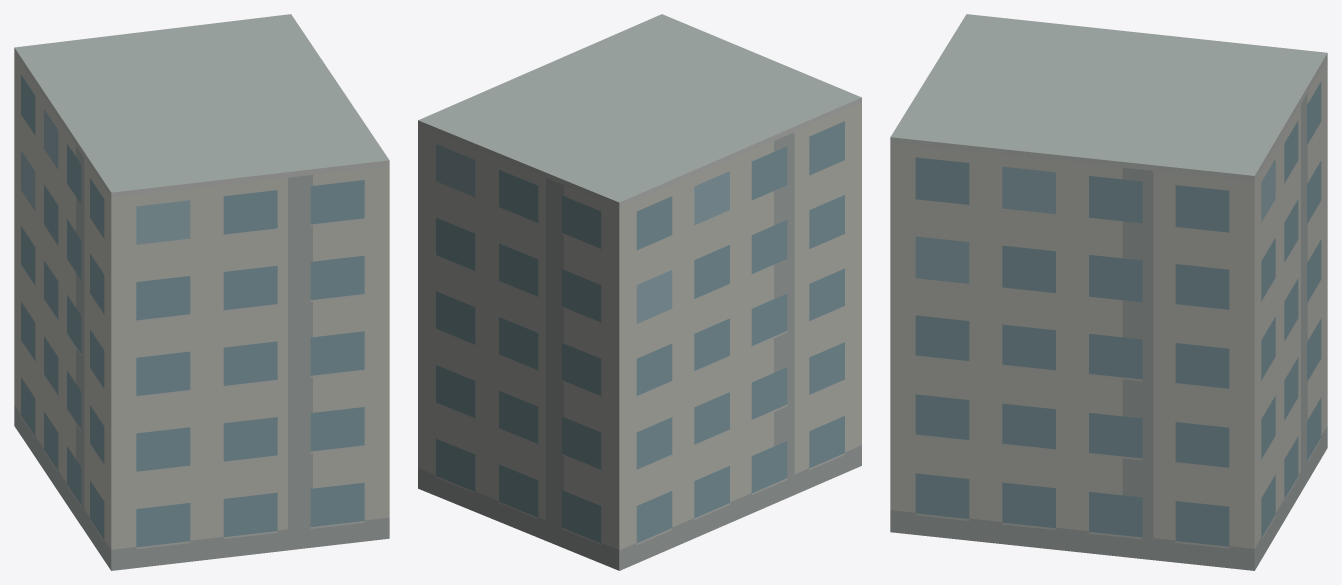
The model's file is survey-upis-32820862.glb.
The picture shows the model from 3 angles, left to right: view 1: azimuth 30°, elevation 25°; view 2: azimuth 150°, elevation 25°; view 3: azimuth 270°, elevation 25°; orthographic projection. The views are drawn at different scales.
Parts seen in each view (by area): view 1: survey-upis-32820862.tmp; view 2: survey-upis-32820862.tmp; view 3: survey-upis-32820862.tmp.
Part boxes in pixels (x1=…): survey-upis-32820862.tmp: x1=14, y1=14, x2=389, y2=570; survey-upis-32820862.tmp: x1=418, y1=14, x2=861, y2=570; survey-upis-32820862.tmp: x1=890, y1=14, x2=1327, y2=570.
Size of the model in its own units: 14.56 by 16.55 by 16.62.
